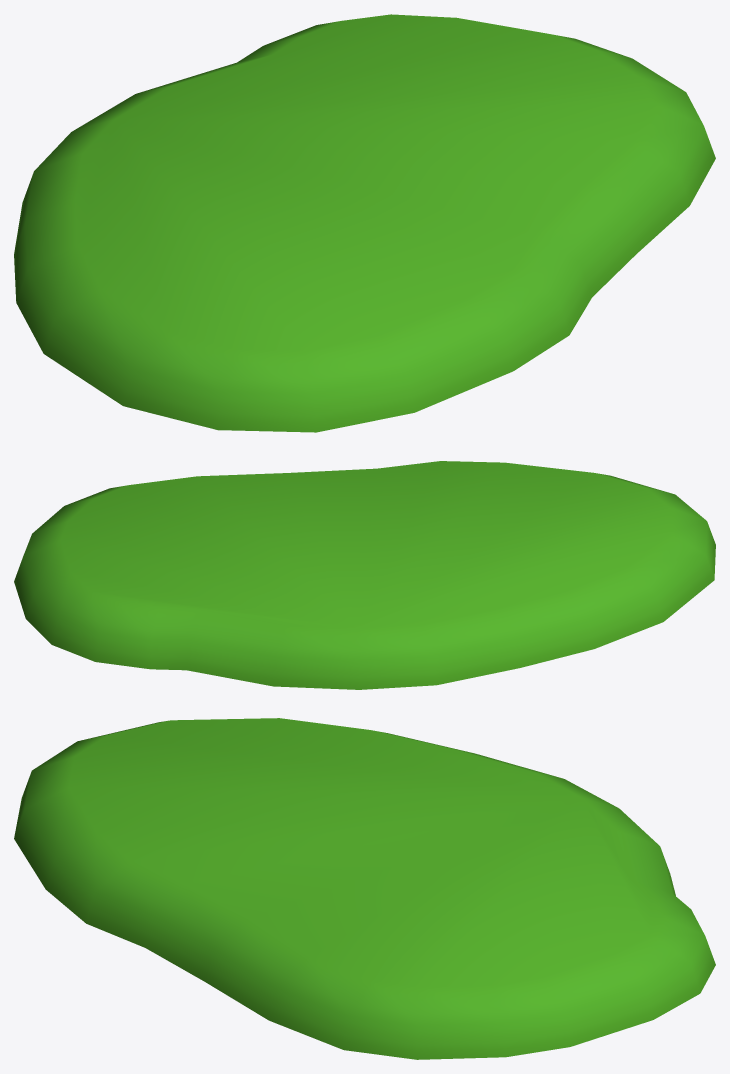
The model's file is GrassPlane_1_C.fbx.
3 views of the same model, one above another, from view 1: azimuth 30°, elevation 25°; view 2: azimuth 150°, elevation 25°; view 3: azimuth 270°, elevation 25° (orthographic). The views are drawn at different scales.
Visible parts, largest first — view 1: GrassPlane_1_C; view 2: GrassPlane_1_C; view 3: GrassPlane_1_C.
Part boxes in pixels (x1,y1,x2,y2): GrassPlane_1_C: (14, 14, 715, 432); GrassPlane_1_C: (14, 461, 715, 689); GrassPlane_1_C: (14, 718, 715, 1059).
Size of the model in its own units: 52.41 by 3.81 by 49.26.
